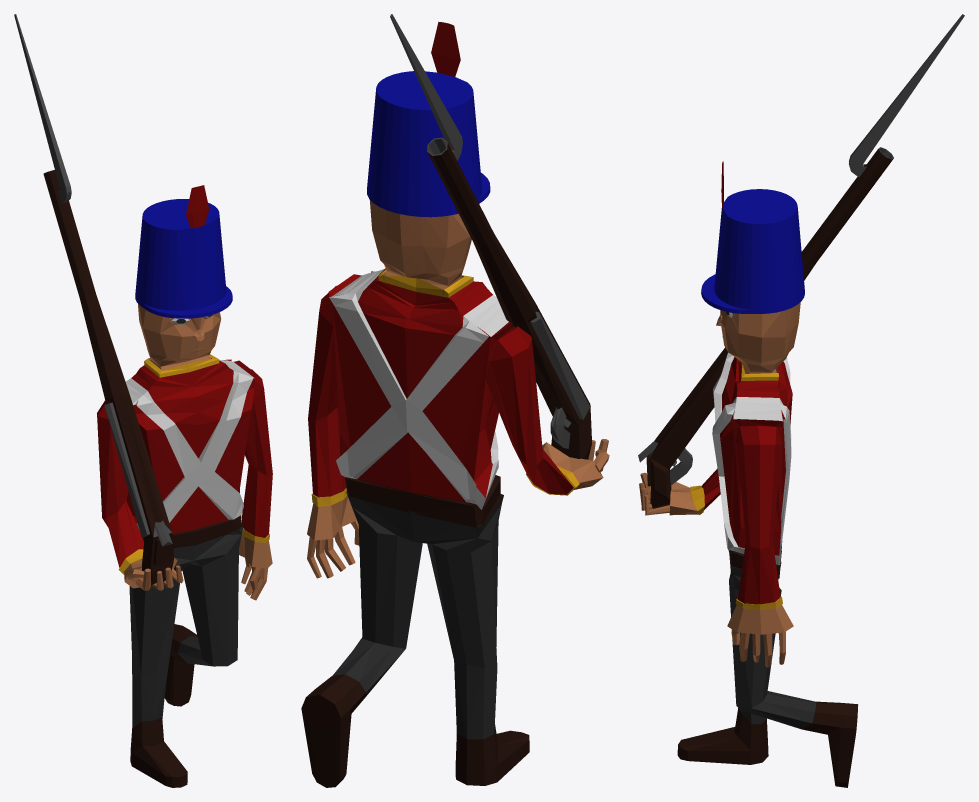
Rendered from Infantry_000059.obj.
3 renders of one model, left to right at view 1: azimuth 30°, elevation 25°; view 2: azimuth 150°, elevation 25°; view 3: azimuth 270°, elevation 25°, orthographic. The views are drawn at different scales.
Parts seen in each view (by area): view 1: {Man}_Circle, {Mesket}_Cube.001; view 2: {Man}_Circle, {Mesket}_Cube.001; view 3: {Man}_Circle, {Mesket}_Cube.001.
Boxes of the visible parts, <box> form: {Man}_Circle: <box>97,185,272,787</box>; {Mesket}_Cube.001: <box>14,14,173,585</box>; {Man}_Circle: <box>301,21,609,787</box>; {Mesket}_Cube.001: <box>390,14,591,459</box>; {Man}_Circle: <box>639,161,858,787</box>; {Mesket}_Cube.001: <box>638,14,964,508</box>.
Size of the model in its own units: 5.63 by 19.44 by 7.93.
